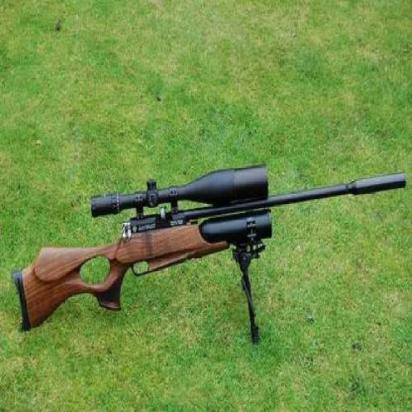Gun: (0, 177, 412, 318)
